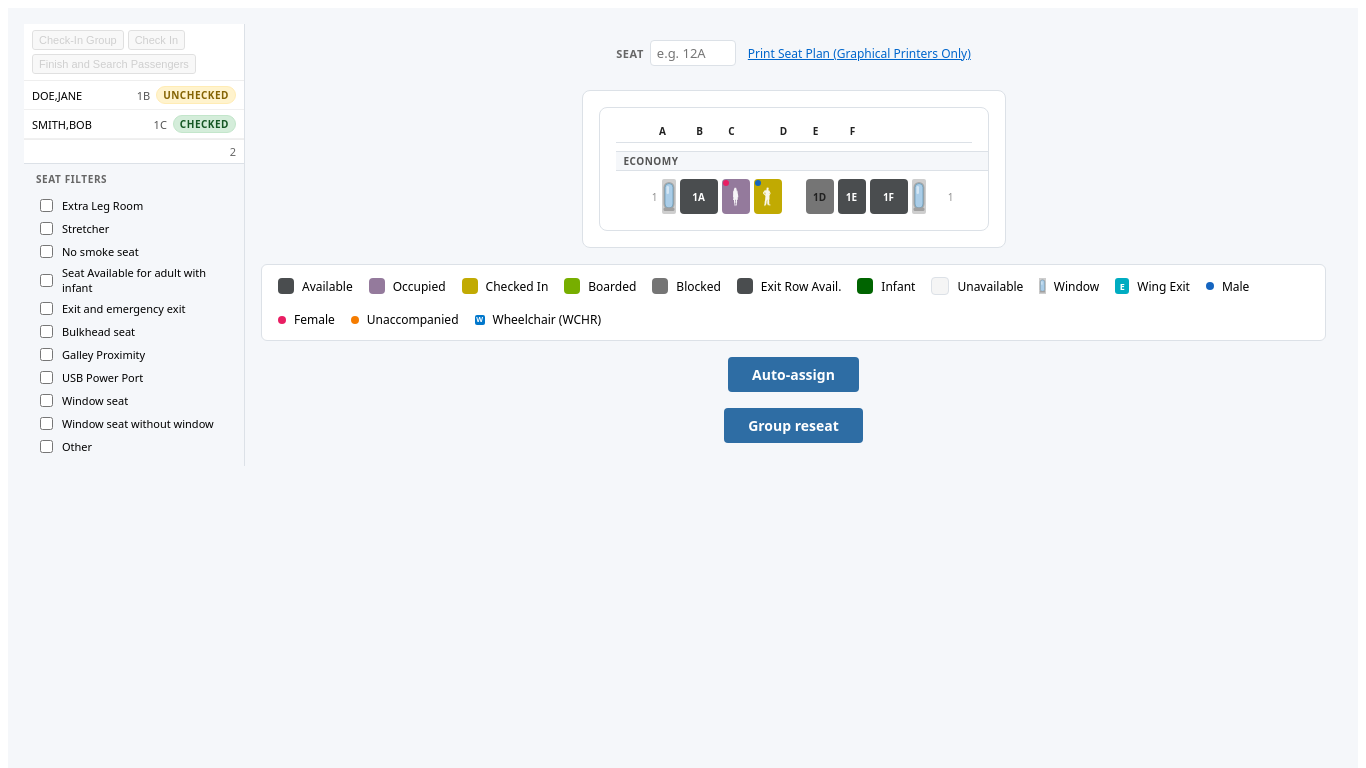
Test case: SeatPlanTab — passenger drawer › clicking an occupied seat opens the drawer
Click the button named "1B" at (736, 196), box [722,179,750,214]
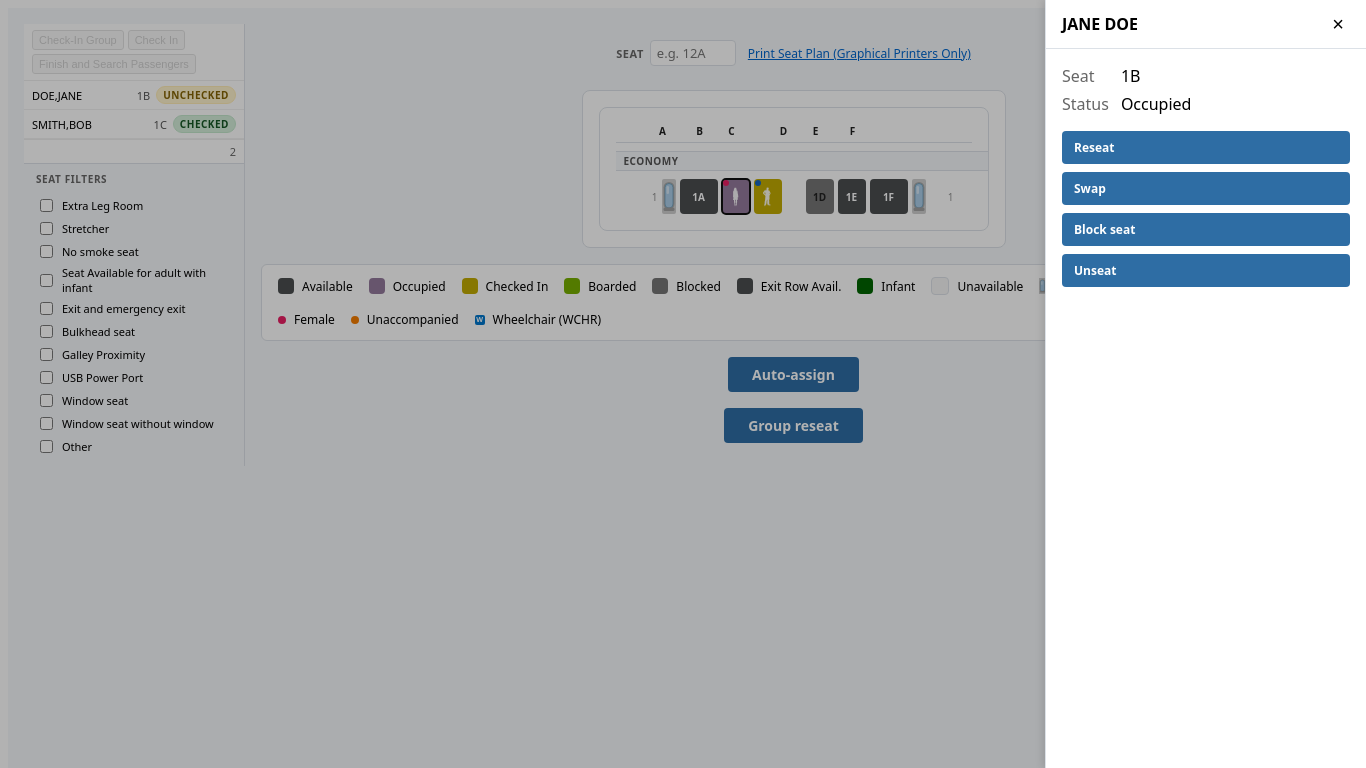
Expected: the element named "passenger details" is shown, [1045,0,1365,767]
Expected: the heading "JANE DOE" is shown, [1062,13,1138,35]
